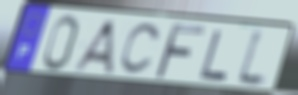0: (42, 13, 80, 73)
A: (69, 18, 118, 76)
C: (117, 23, 163, 77)
F: (152, 22, 207, 82)
L: (233, 27, 270, 91), (198, 29, 230, 83)
